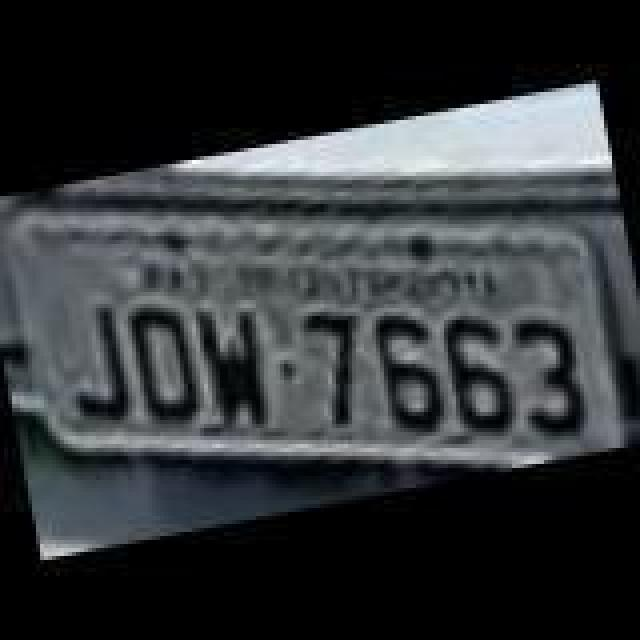3: (504, 310, 592, 442)
6: (362, 298, 454, 438), (438, 306, 522, 438)
7: (294, 300, 378, 436)
J: (58, 294, 142, 426)
O: (120, 298, 200, 422)
W: (186, 294, 278, 442)
